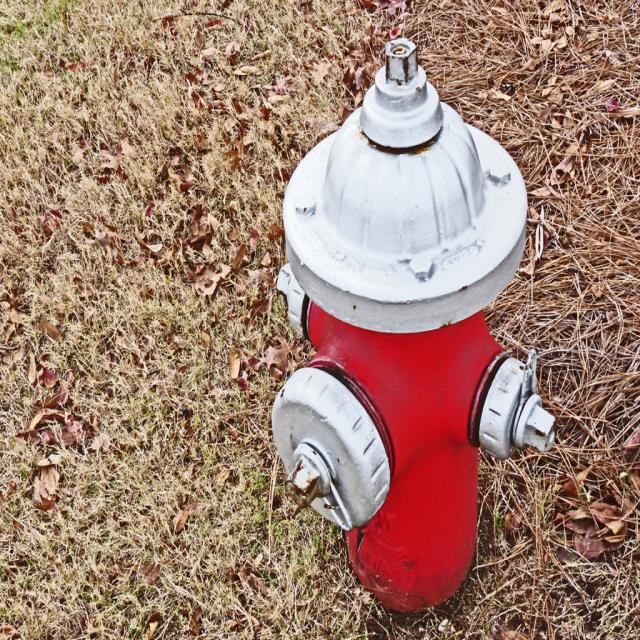fire_hydrant: (270, 35, 556, 613)
